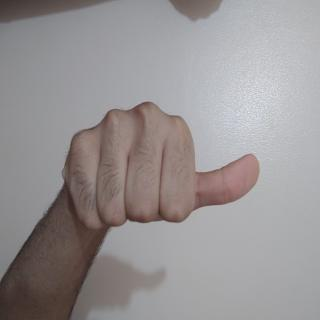ALIF: (70, 75, 184, 320)
